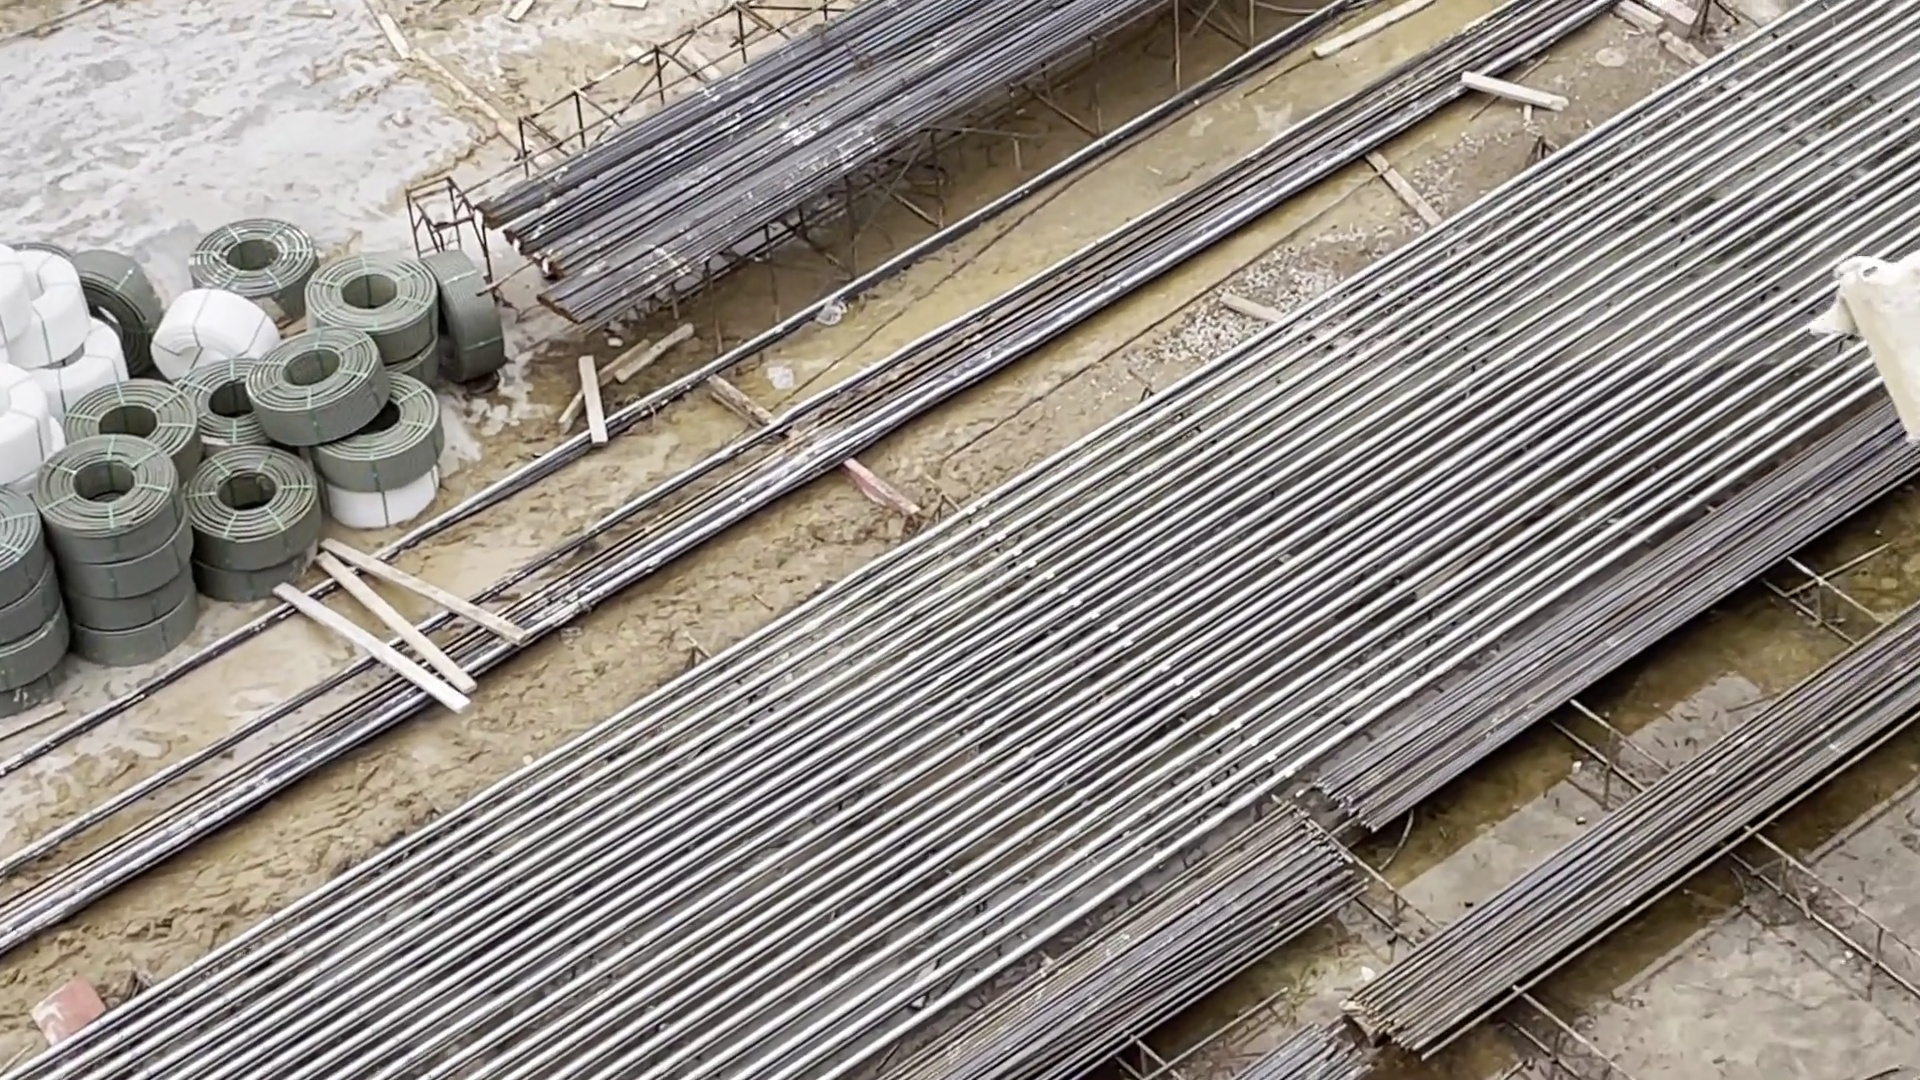rebar: (914, 459, 1920, 1080), (473, 1, 1162, 327)
